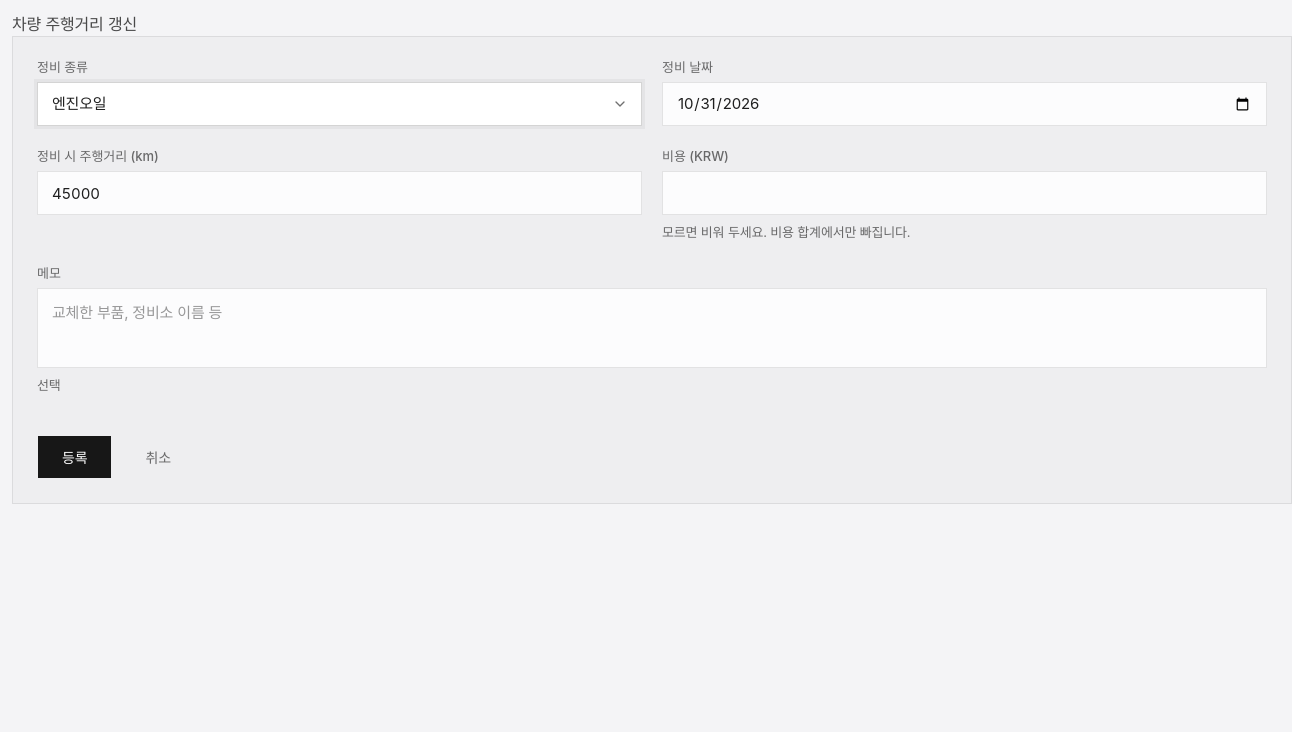
it: MaintenanceForm 등록 › 주행거리가 크게 뛰면 저장 전에 칸 아래에서 자릿수를 확인하라고 알린다 — 주유 폼과 같게
The width and height of the screenshot is (1292, 732).
Replace the text in the number field labelled "정비 시 주행거리 (km)" with "450000" at point(340, 193), box left=37, top=171, right=642, bottom=215
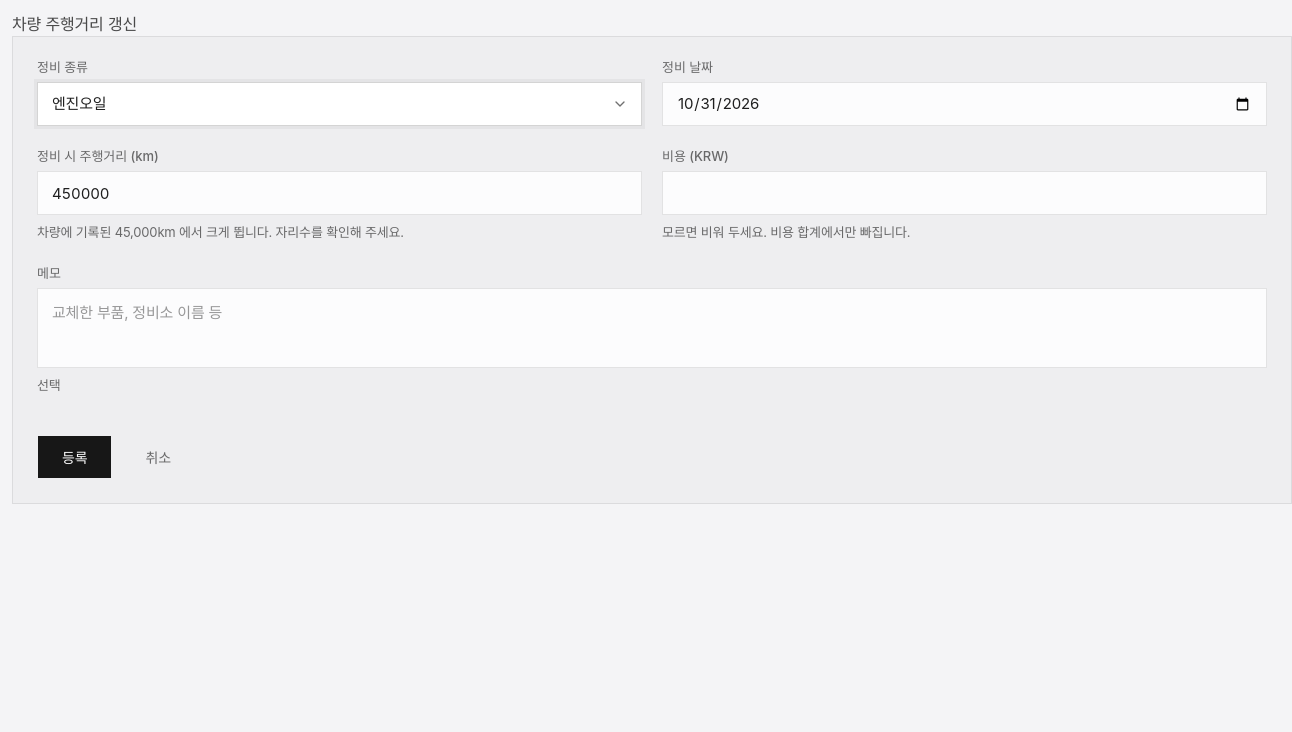
Expected: the text "차량에 기록된 45,000km 에서 크게 뜁니다. 자리수를 확인해 주세요." is shown, left=37, top=224, right=404, bottom=240
